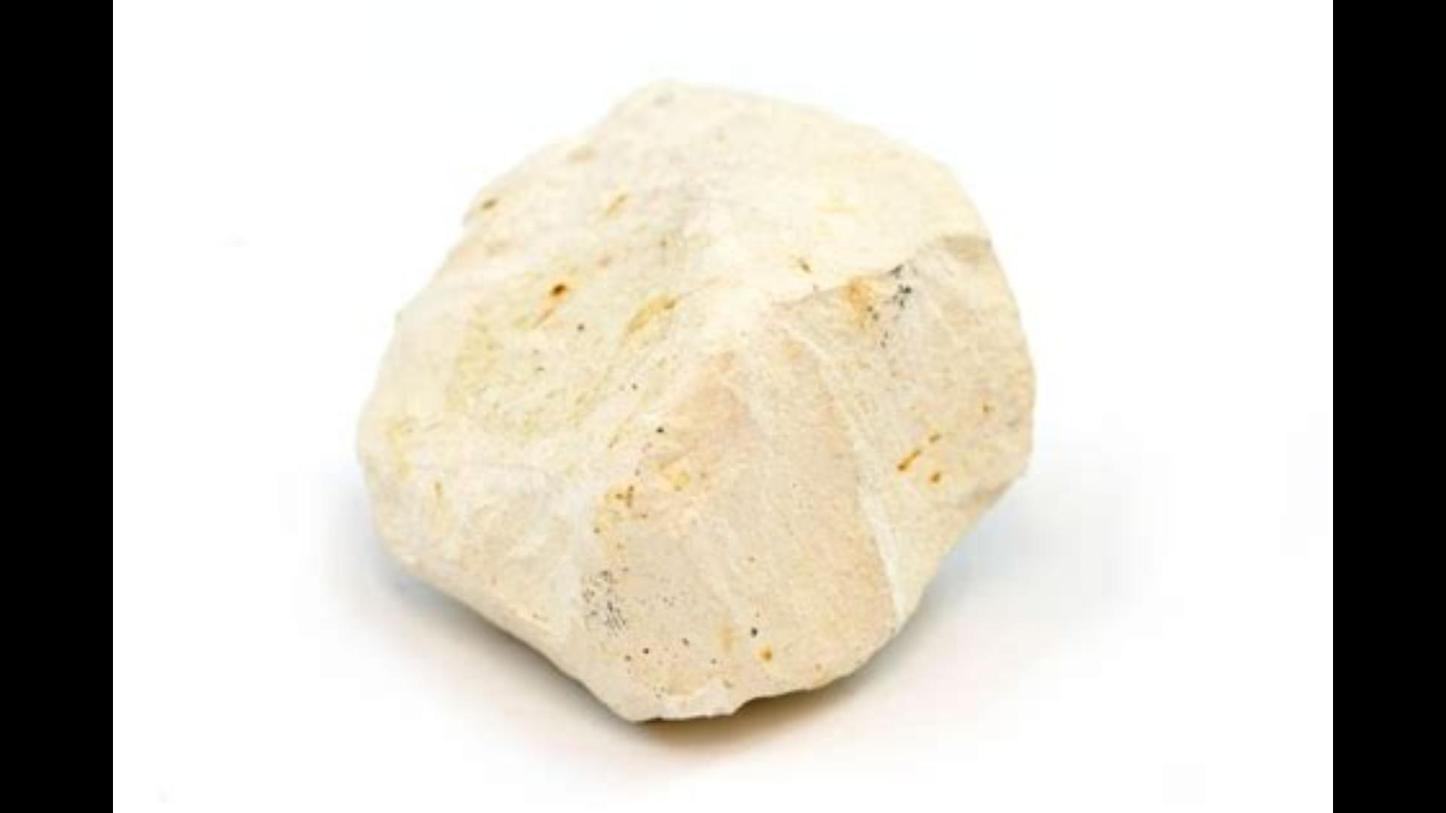rock: (360, 87, 1032, 715)
